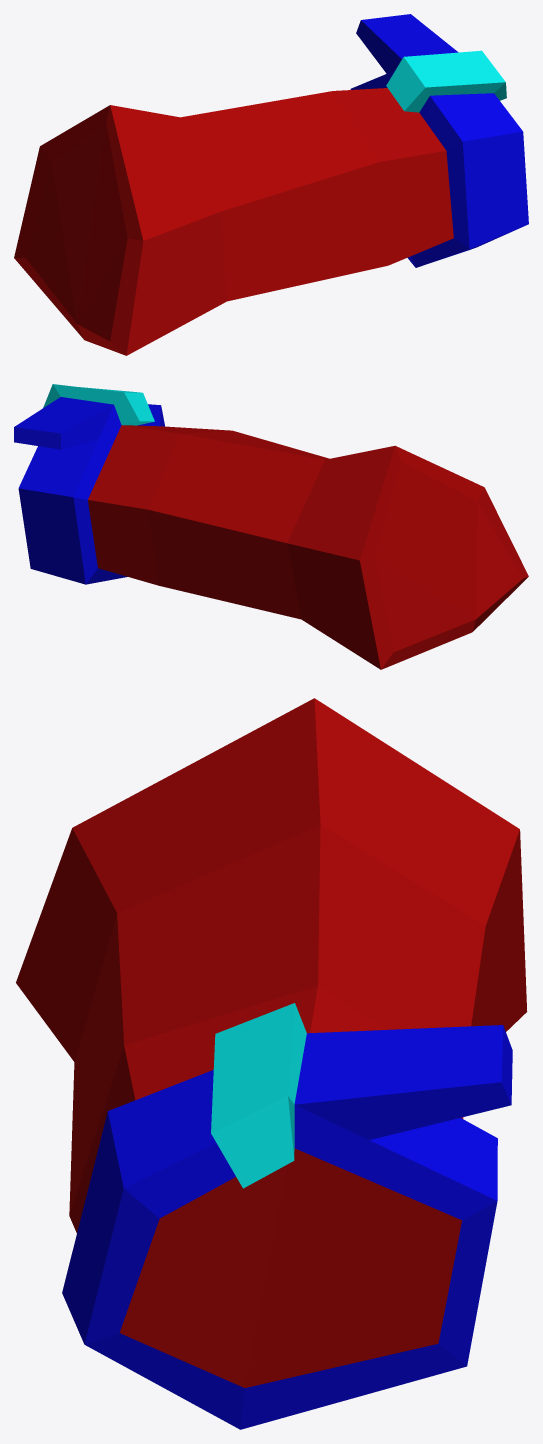
File: Chr_ArmUpperLeft_Male_Static_10.fbx
3 renders of one model, top to bottom at view 1: azimuth 30°, elevation 25°; view 2: azimuth 150°, elevation 25°; view 3: azimuth 270°, elevation 25°, orthographic. The views are drawn at different scales.
Visible parts, largest first — view 1: Chr_ArmUpperLeft_Male_10; view 2: Chr_ArmUpperLeft_Male_10; view 3: Chr_ArmUpperLeft_Male_10.
Boxes of the visible parts, x1,y1,x2,y2 form: Chr_ArmUpperLeft_Male_10: (14,14,528,355); Chr_ArmUpperLeft_Male_10: (14,384,528,669); Chr_ArmUpperLeft_Male_10: (16,698,527,1429).
Bounding box in the file's own units: 33.4 × 15.69 × 17.36.
